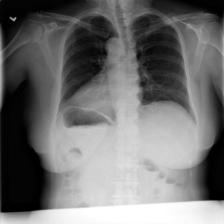normal: (55, 11, 199, 137)
